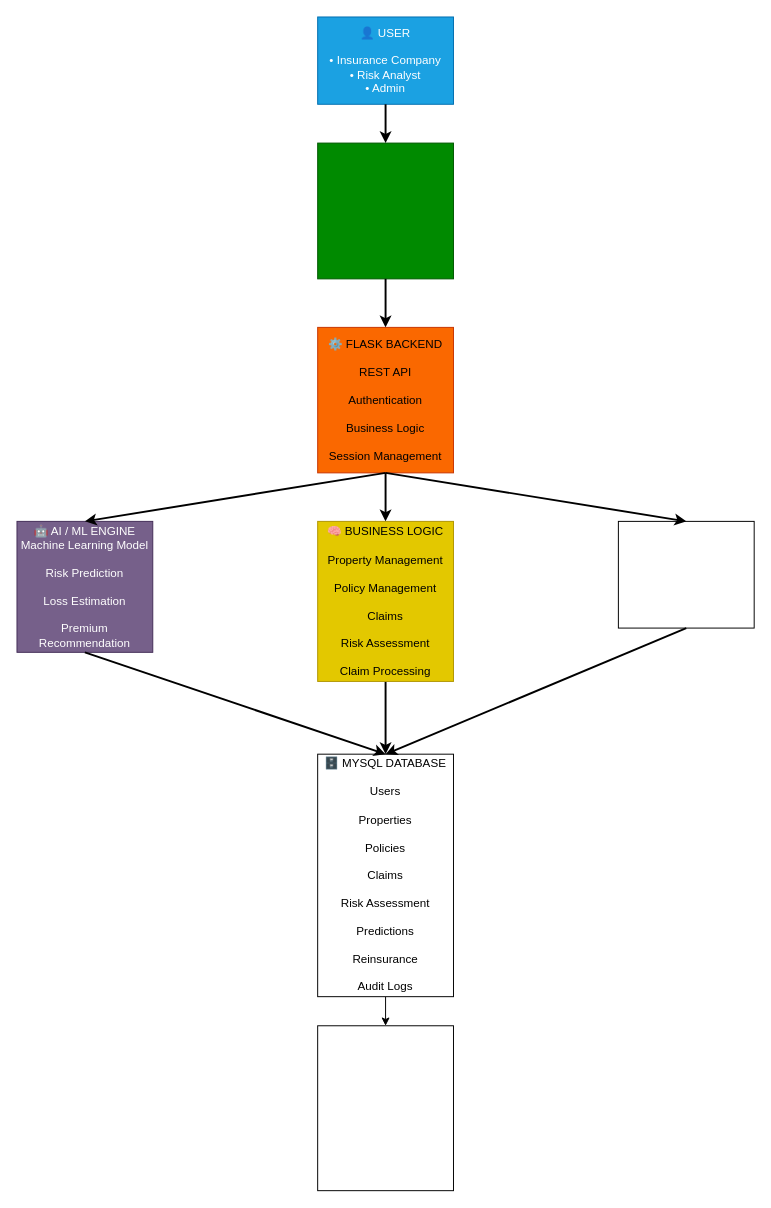
Some shapes in this 771 by 1208 pixel diagram are drawn without their labels. Each missing label, with the centre of its shape:
🌐 WEB FRONTEND Frontend (HTML/CSS/JavaScript) Bootstrap Dashboard Forms: (385,210)
📊 OUTPUT Risk Score Premium Reports Dashboard Analytics: (385,1108)
🔐 AUTHENTICATION Login Role Based Access Security: (685,574)
